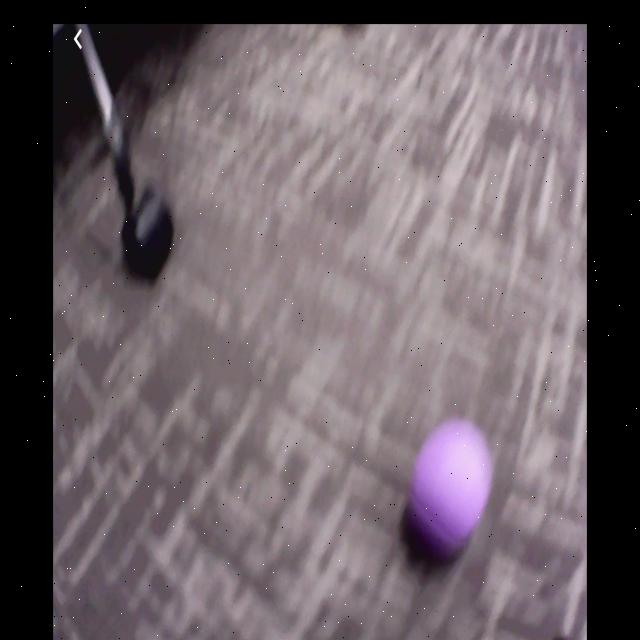ball: (414, 423, 487, 553)
